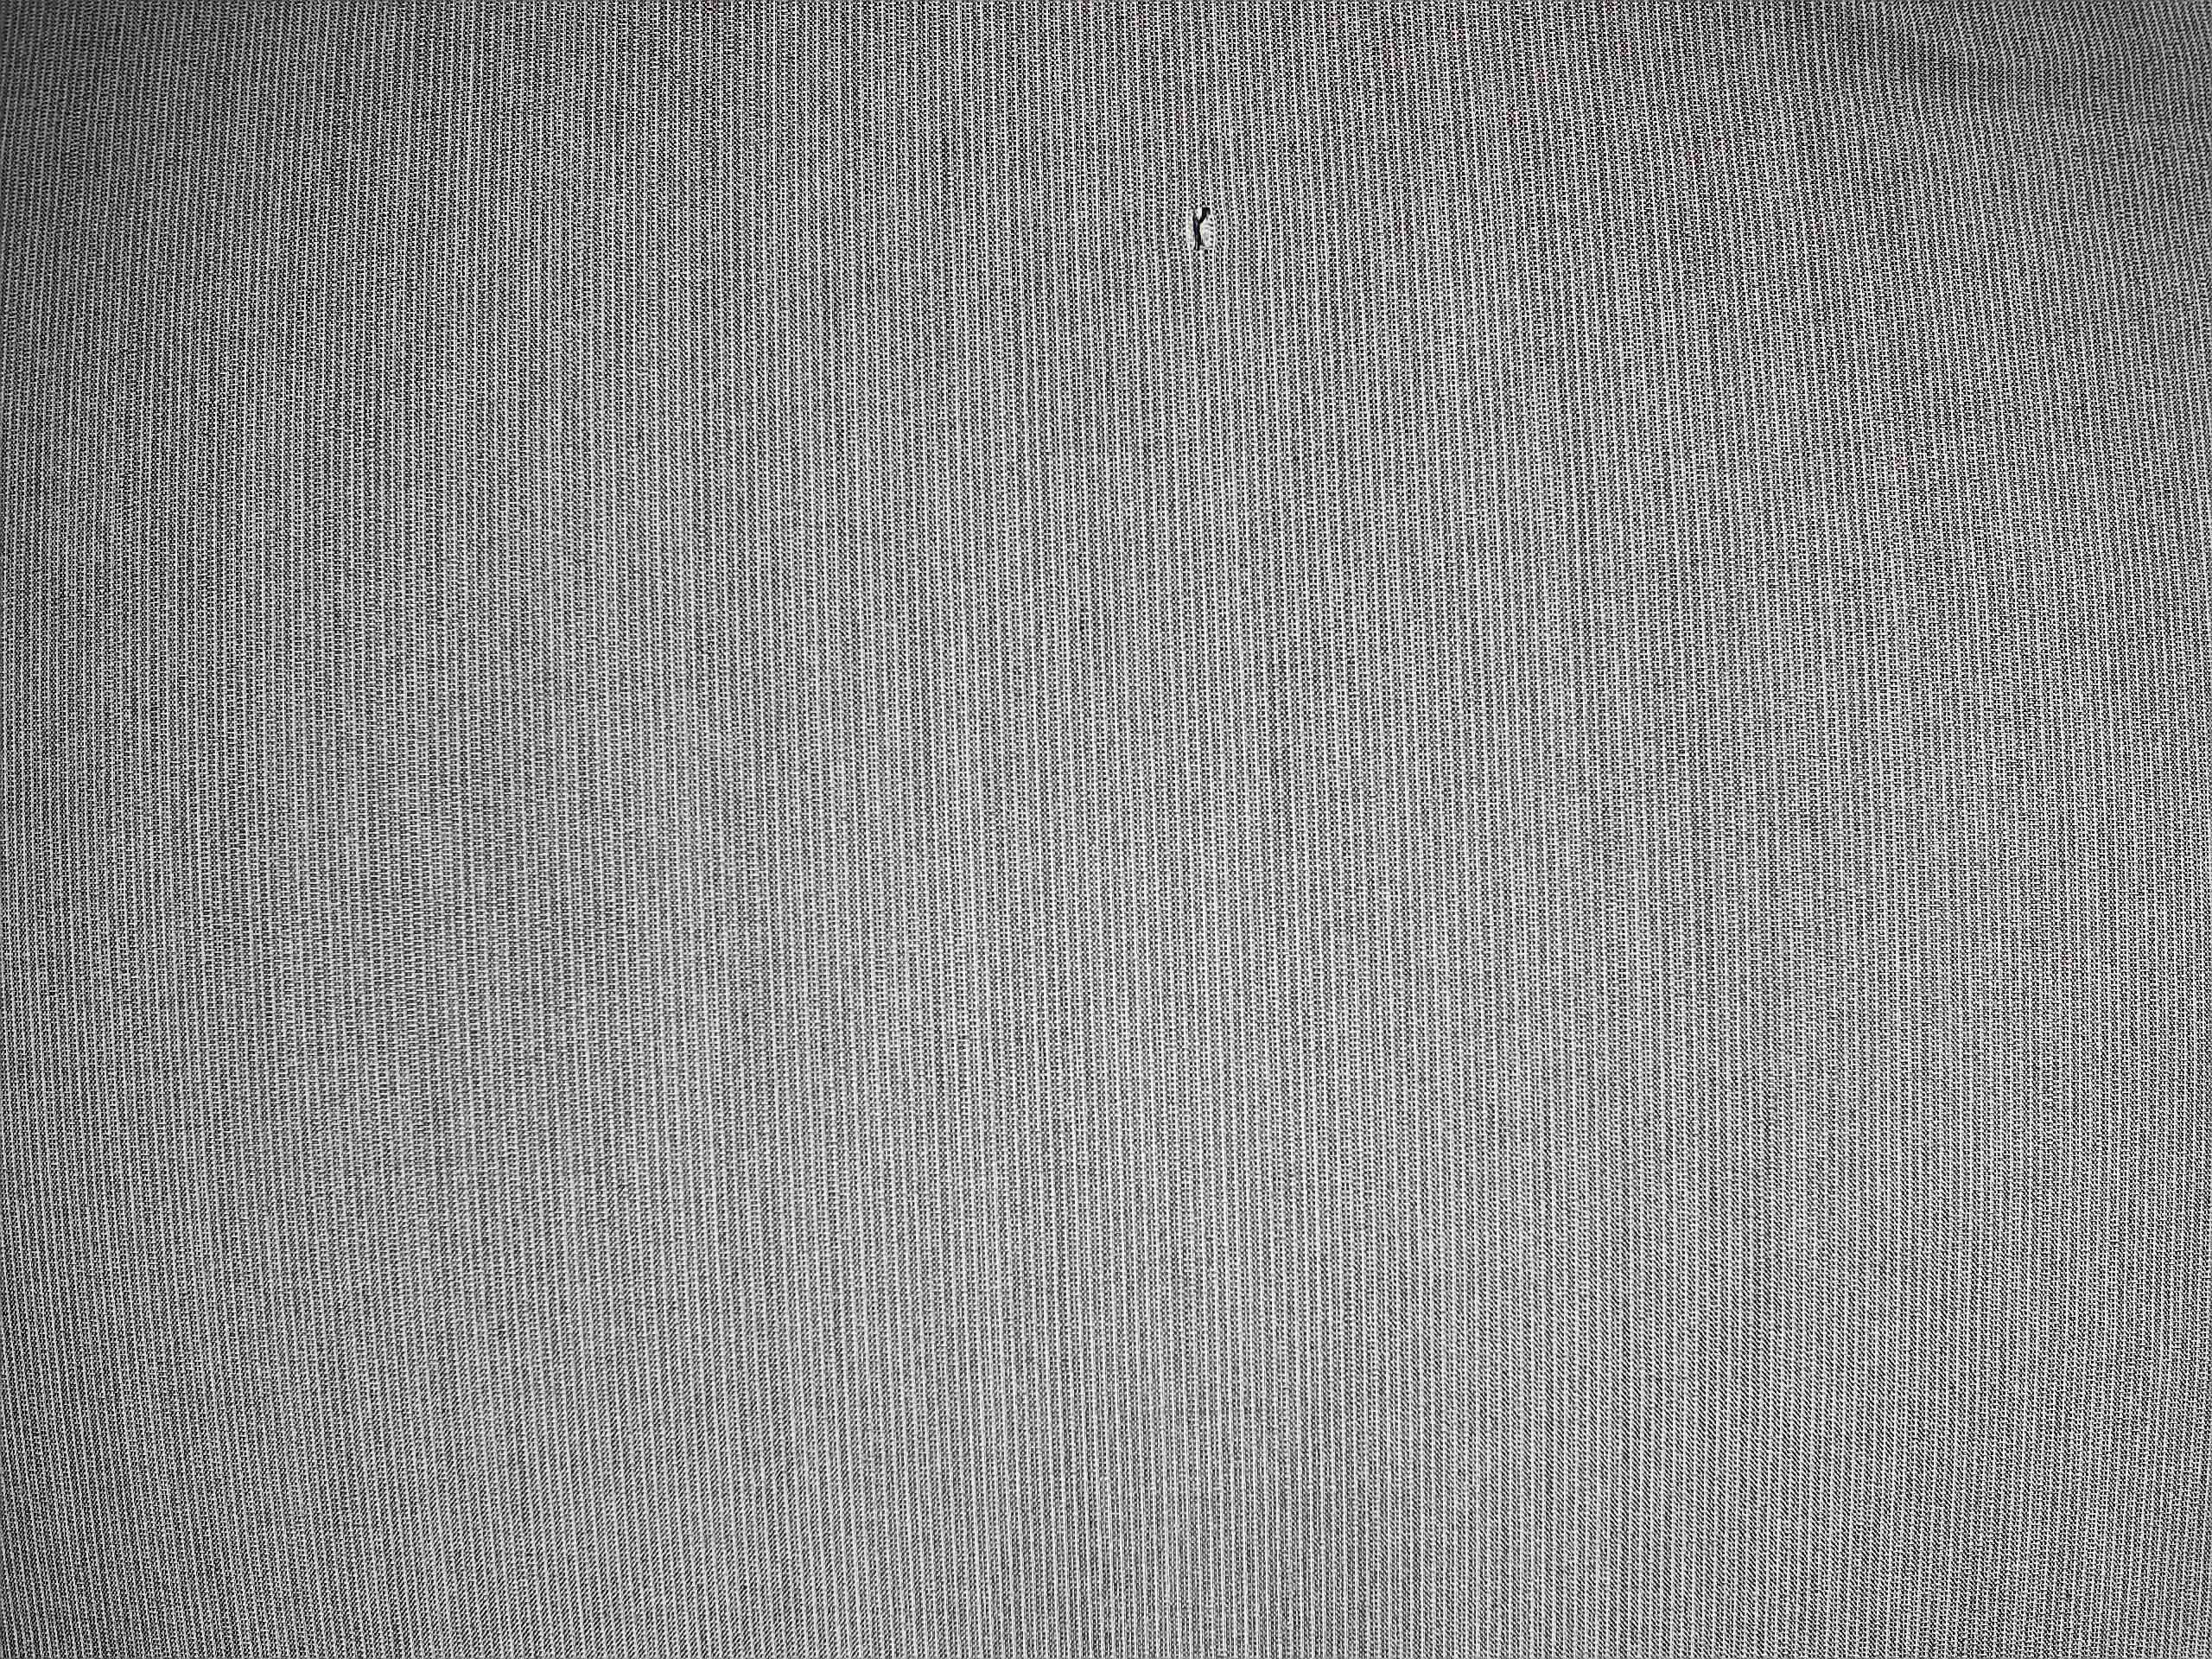puncture-hole: (1163, 169, 1240, 275)
